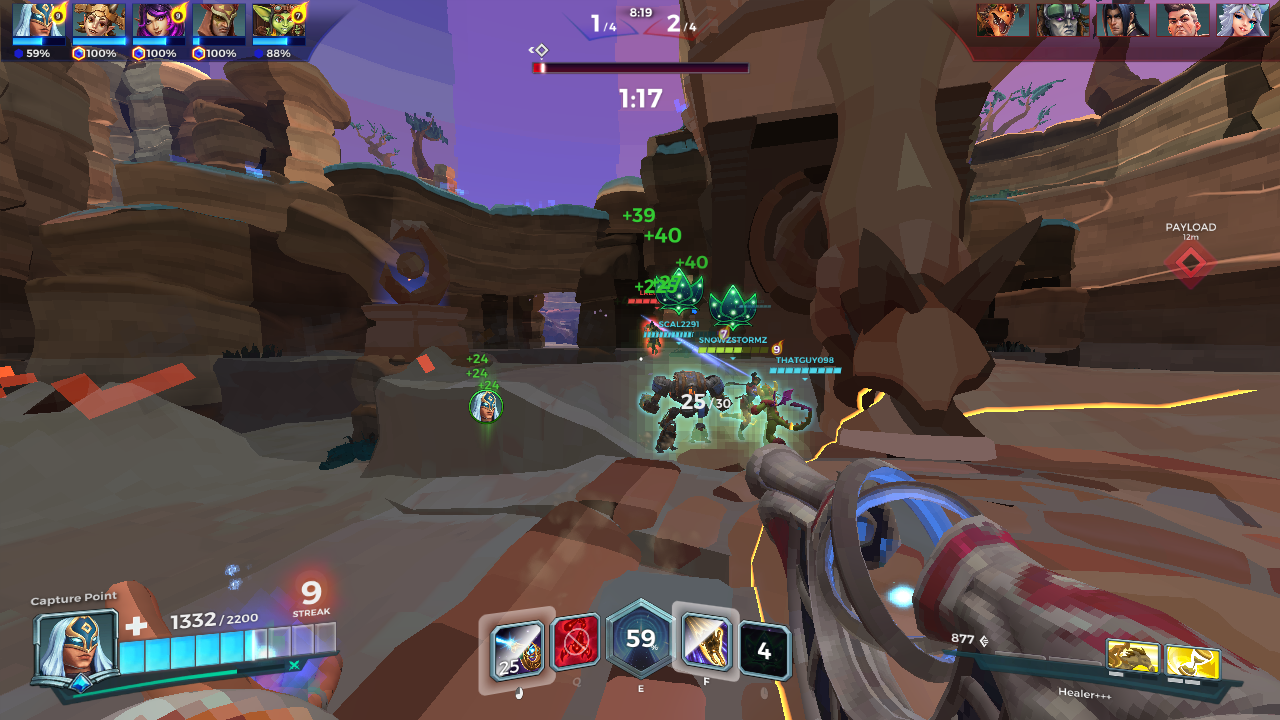model: (642, 318, 663, 354)
